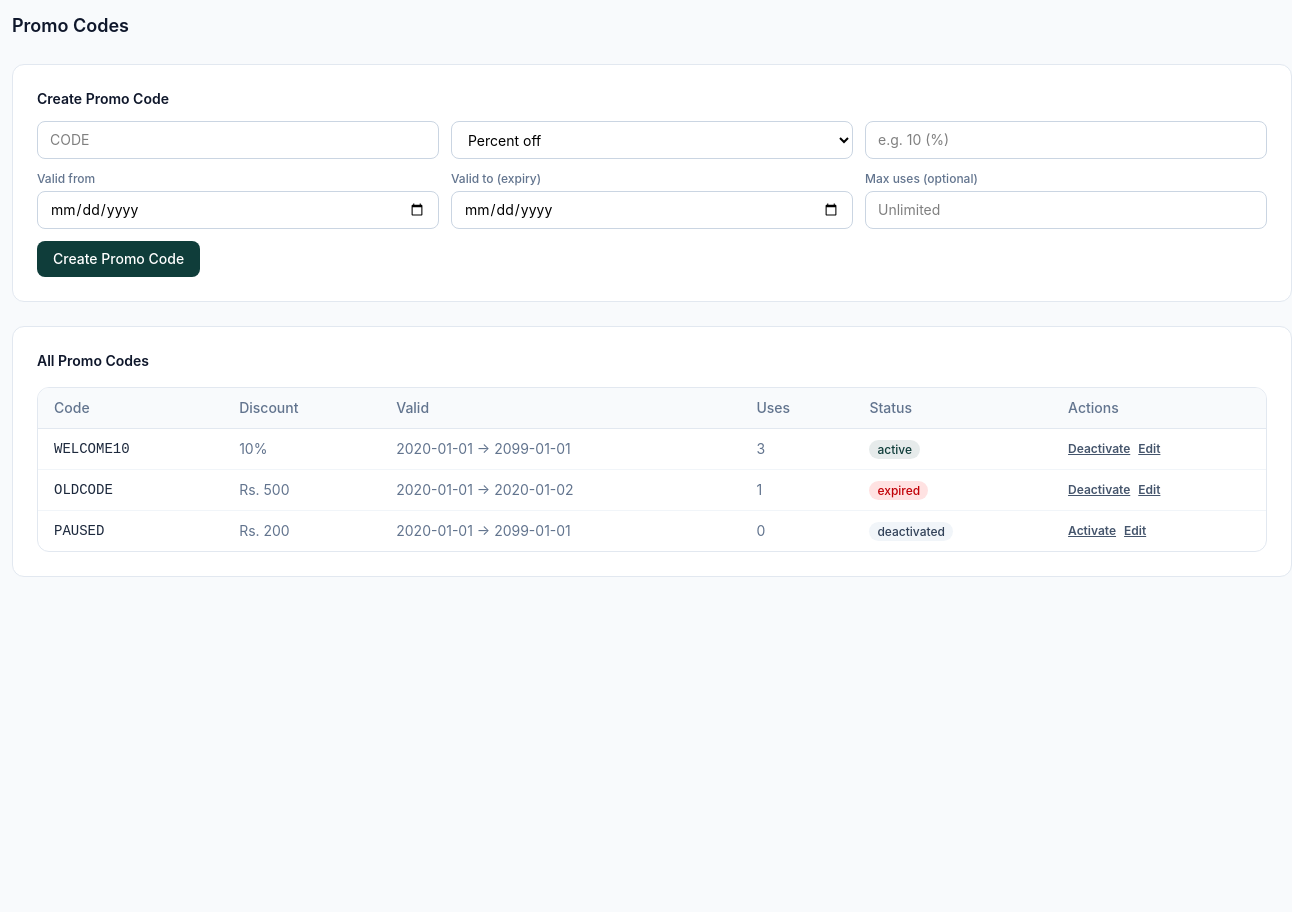
PromoCodesPage › disables the create button while a submission is in flight, preventing a duplicate create
The image size is (1292, 912).
Check: the text "WELCOME10" is shown, box [38,428,223,470]
Type "NEWCODE" into the field with placeholder "CODE".
click(238, 140); type("NEWCODE")  # box [37,121,439,159]
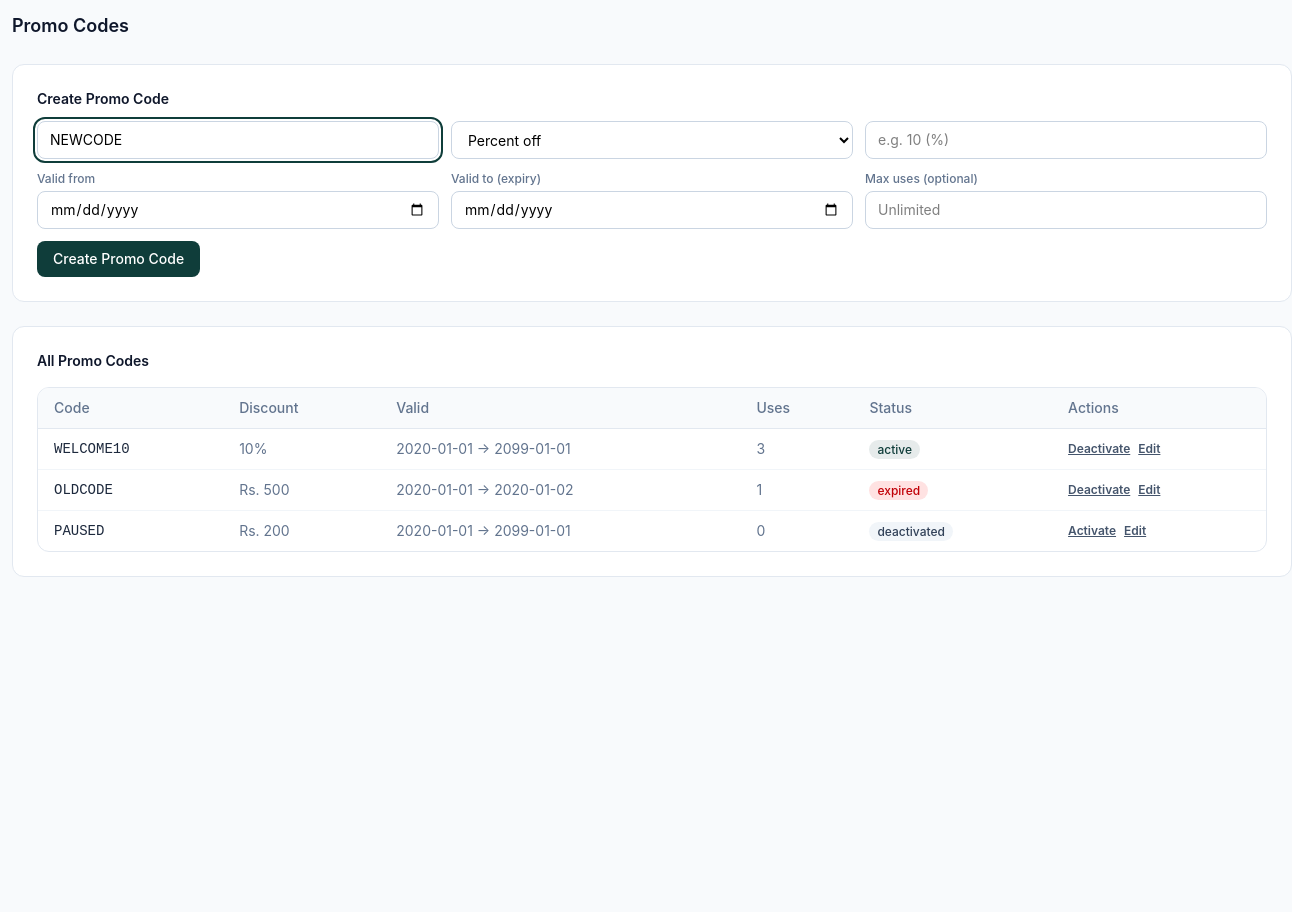
Type "15" into the number field with placeholder "e.g. 10 (%)".
click(1066, 140); type("15")  # box [865,121,1267,159]
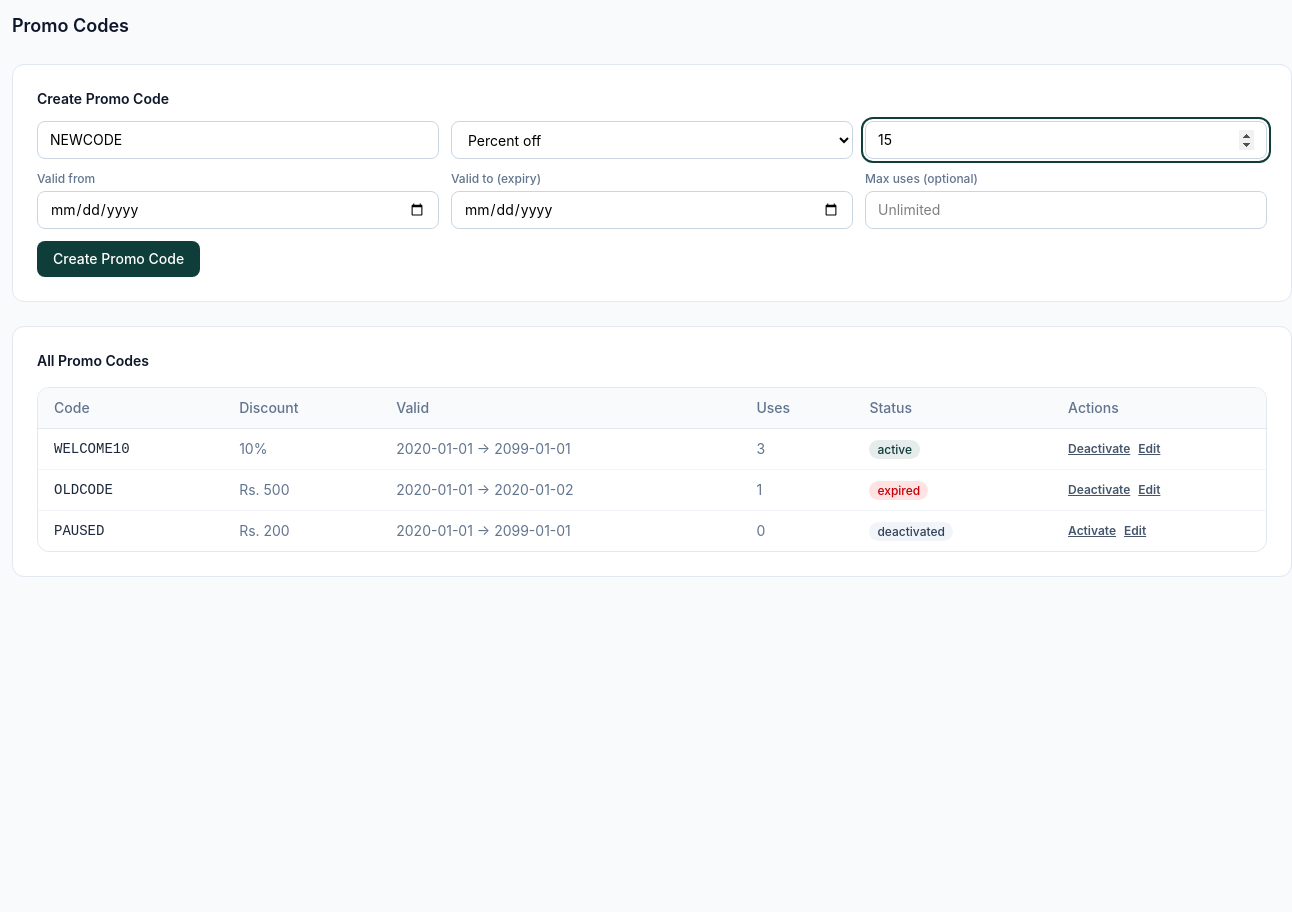
Type "2027-01-01" into the date field below "Valid from".
click(238, 210); type("2027-01-01")  # box [37,191,439,229]
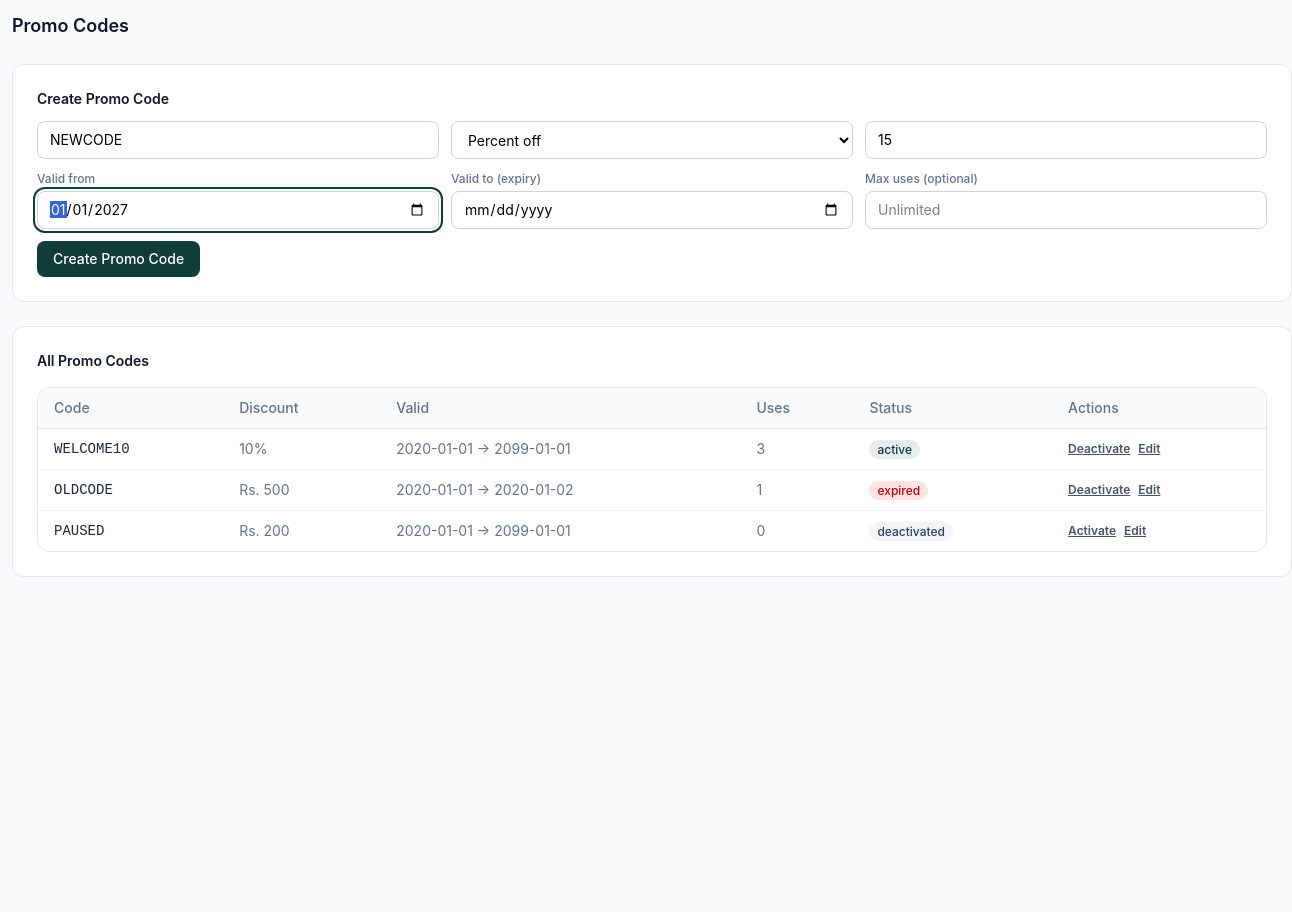
Type "2027-06-01" into the date field below "Valid to (expiry)".
click(652, 210); type("2027-06-01")  # box [451,191,853,229]
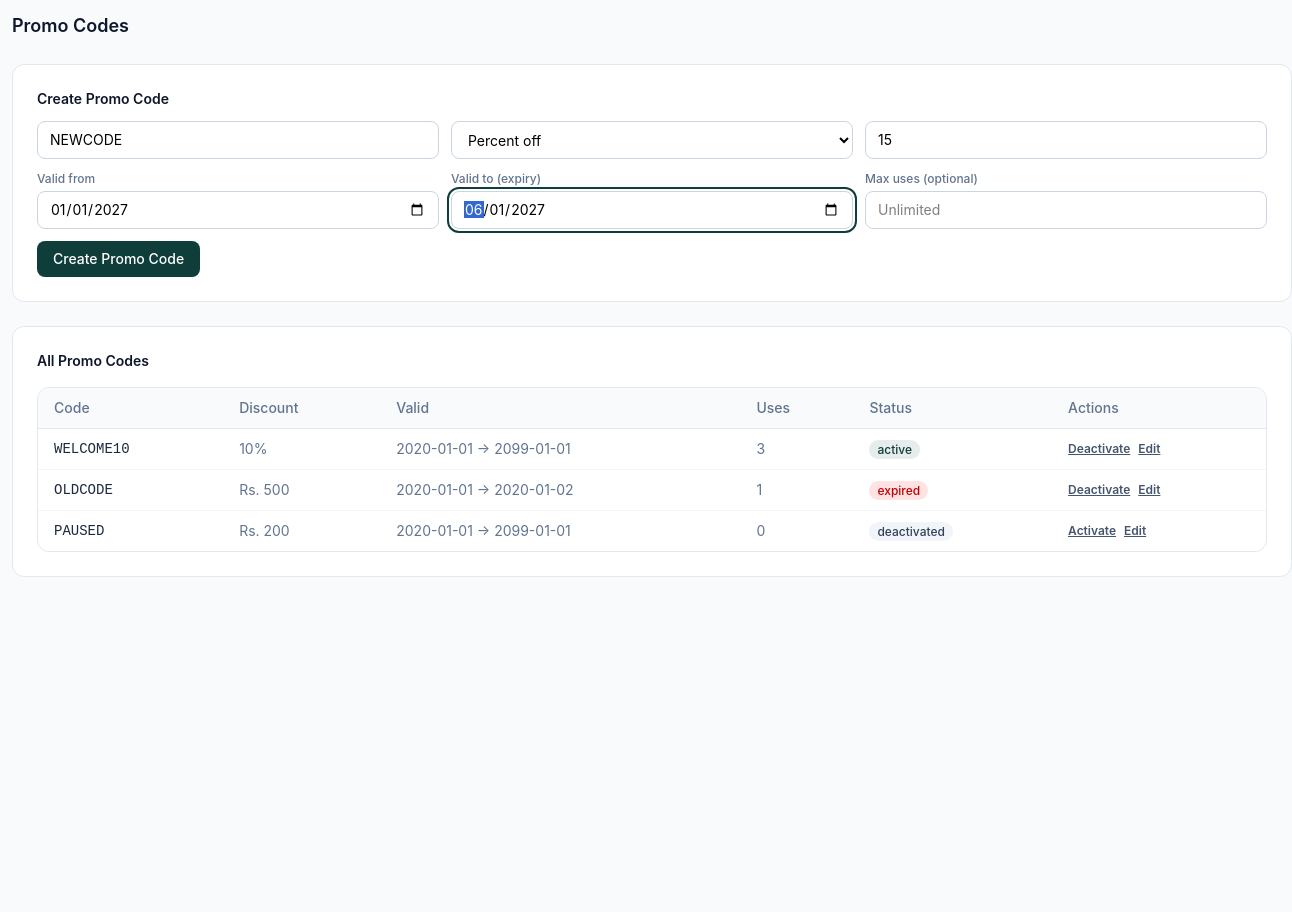
Click the button "Create Promo Code".
click(119, 259)  # box [37,241,200,277]
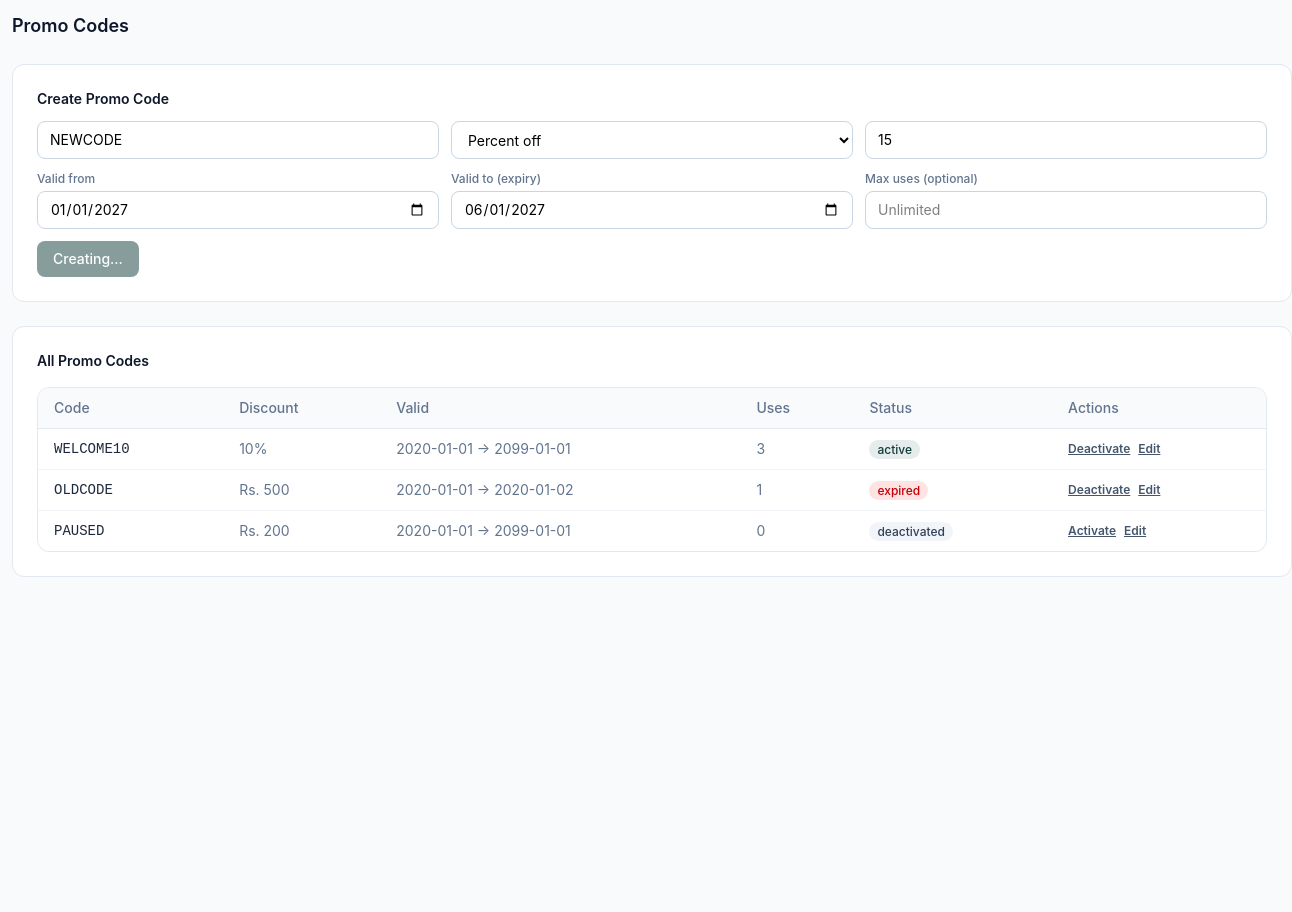
Check: the button "Creating..." is disabled
// A second click while still in flight must not fire a second request.
Click the button "Creating...".
click(88, 259)  # box [37,241,139,277]
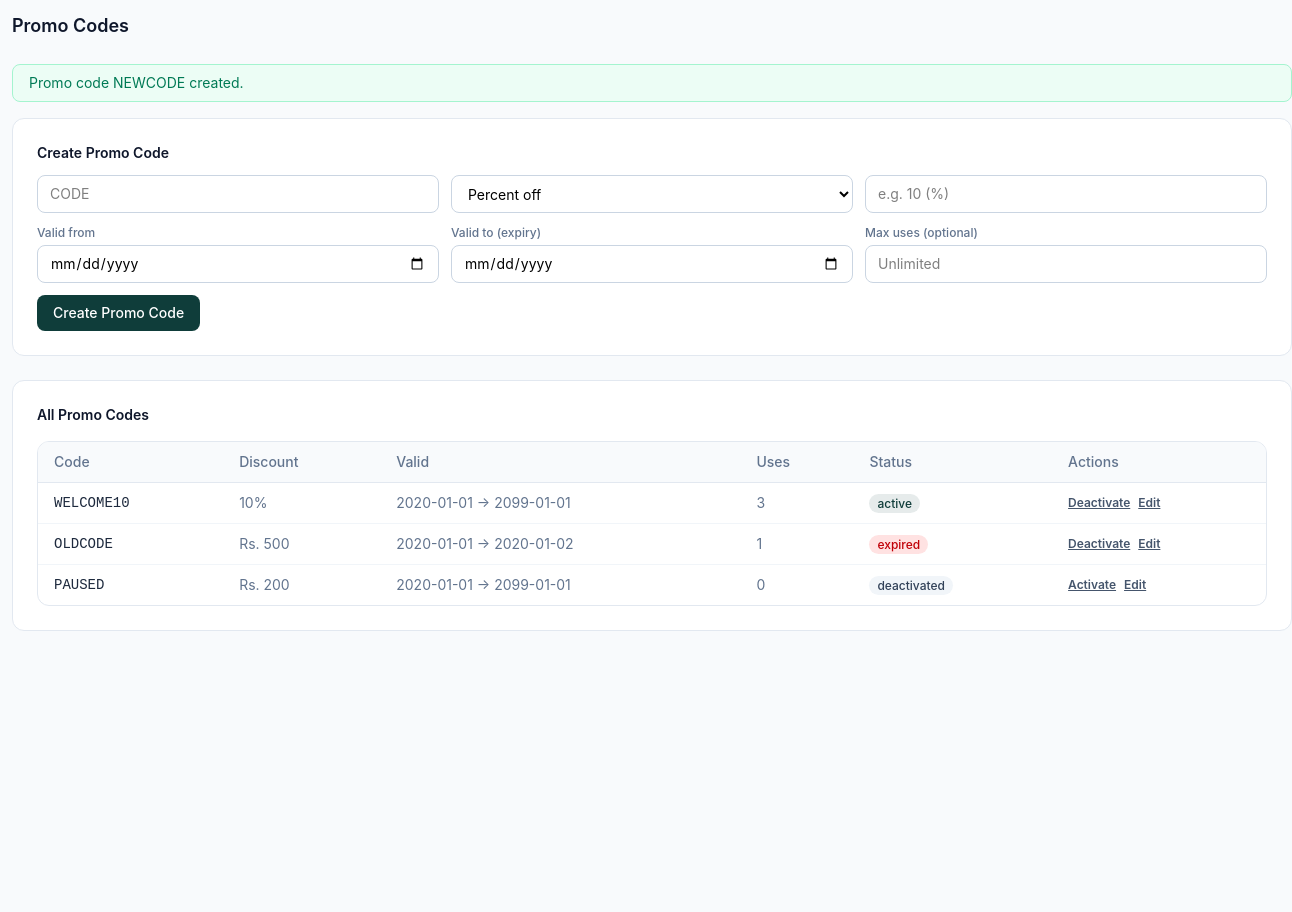
Check: the button "Create Promo Code" is enabled, box [37,295,200,331]
